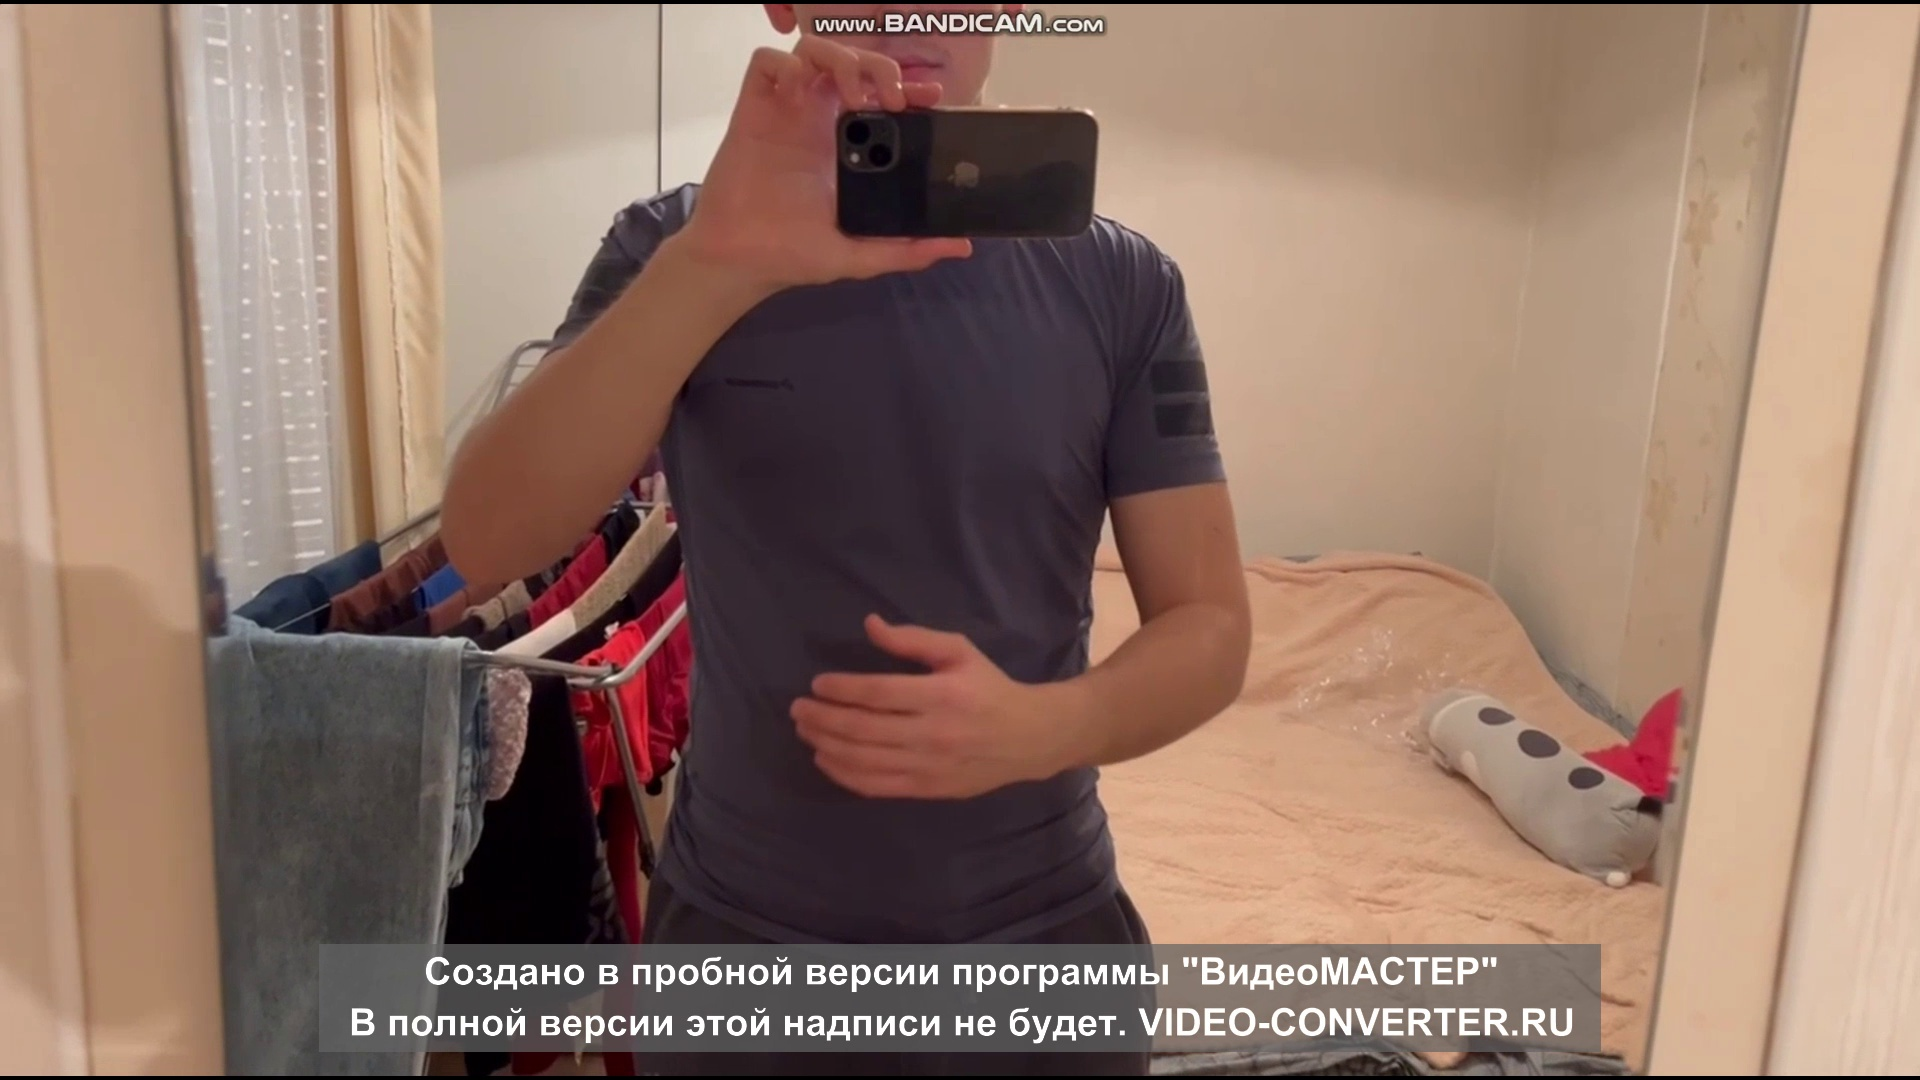Кисть: (791, 613, 1027, 802)
